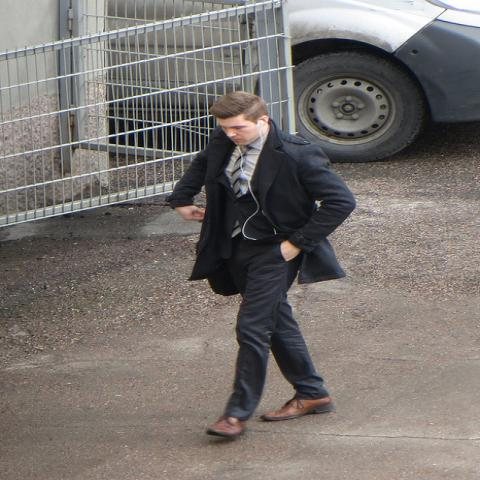car: (106, 0, 479, 167)
